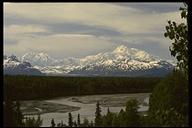mountain: (6, 44, 168, 78)
sky: (8, 6, 161, 44)
snow: (109, 51, 148, 65)
tree: (160, 4, 190, 76), (122, 99, 141, 123), (93, 100, 105, 126)
water: (6, 93, 154, 121)
